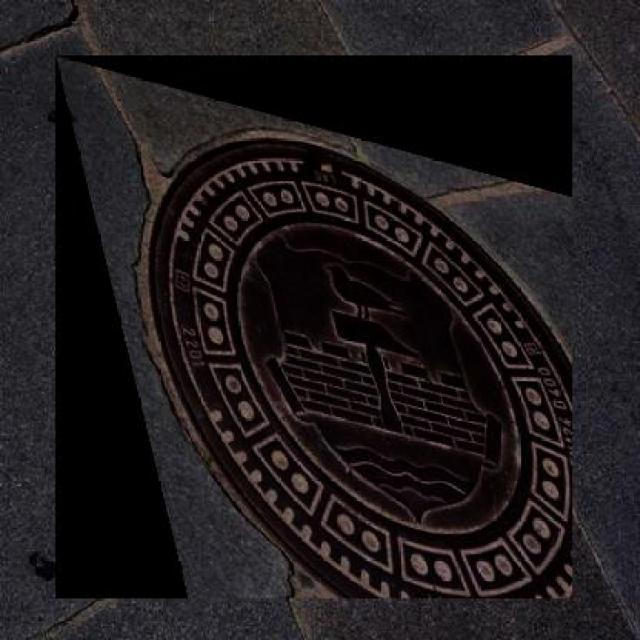Manhole: (55, 56, 572, 598)
